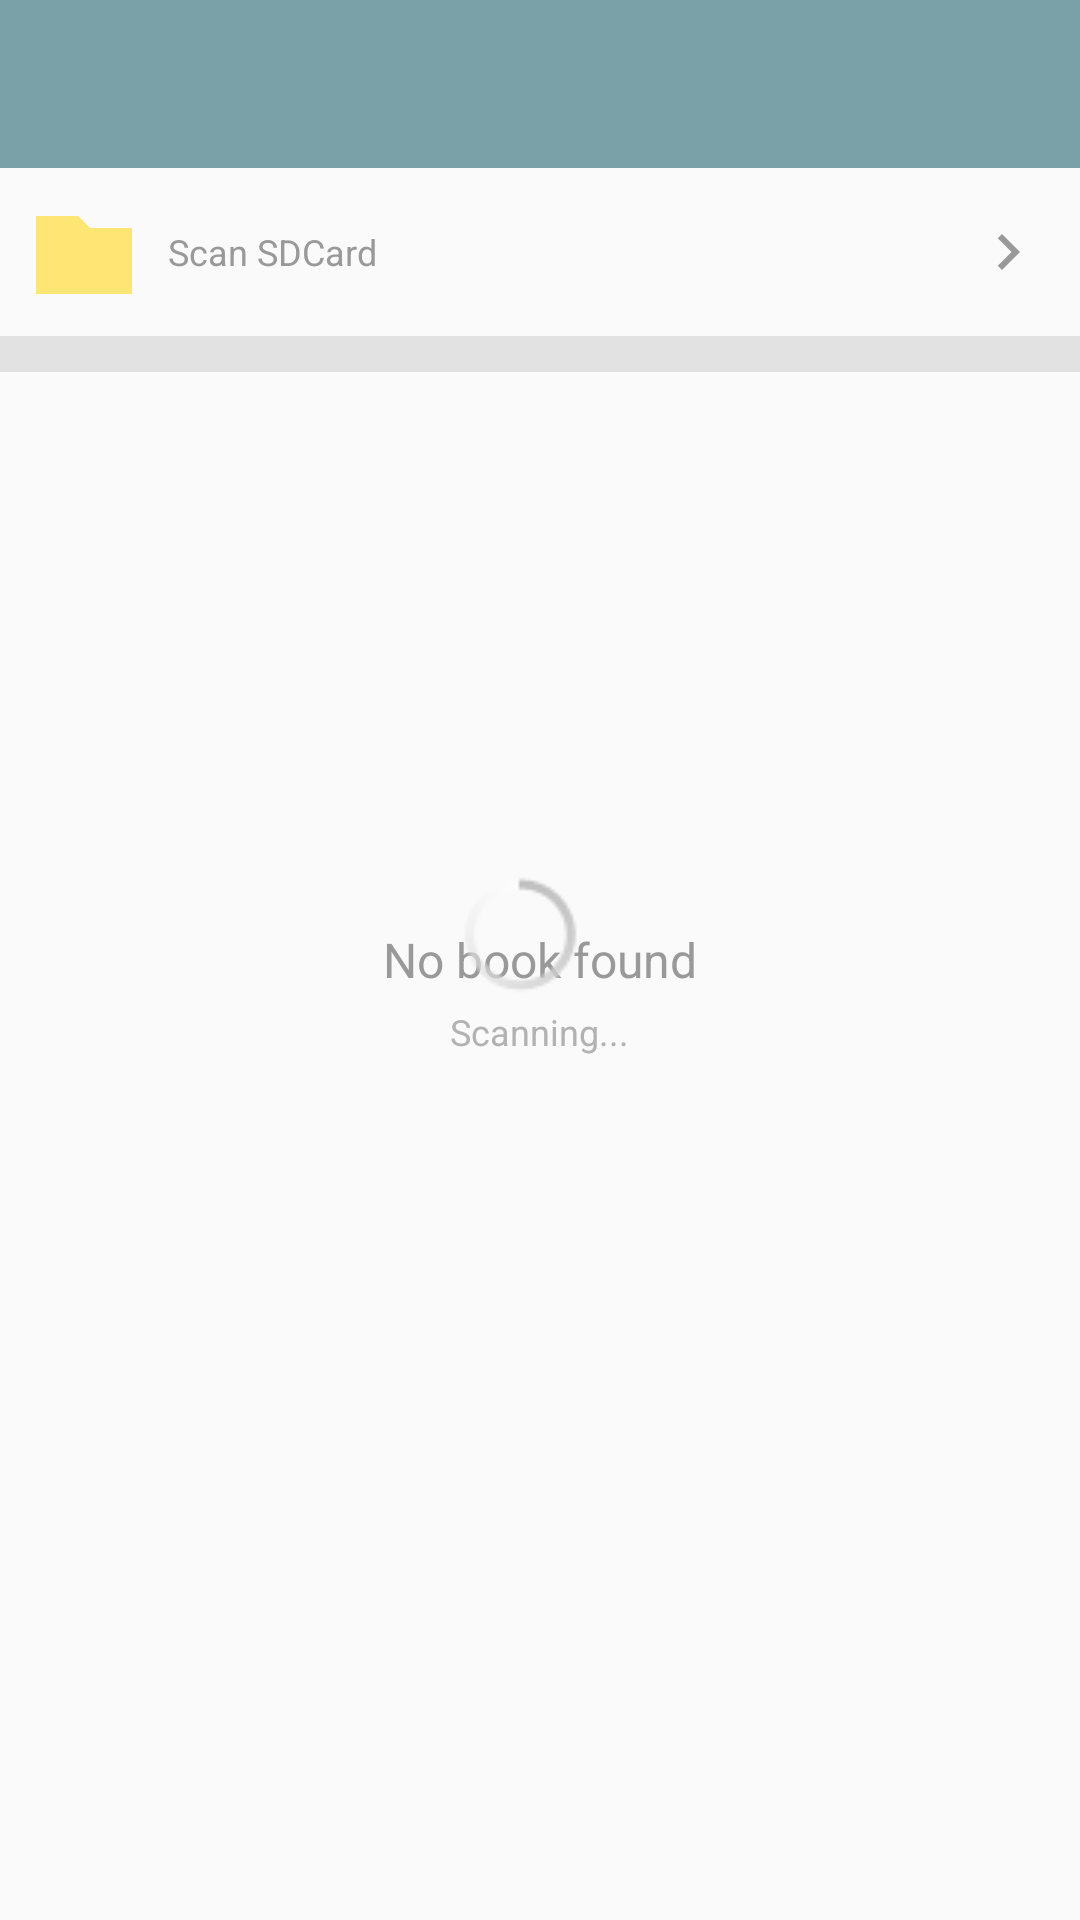

Where icons sit on this 1080 x 1920 app screen, as (x1, y1, x2, y2):
chevron right: (998, 234, 1020, 270)
